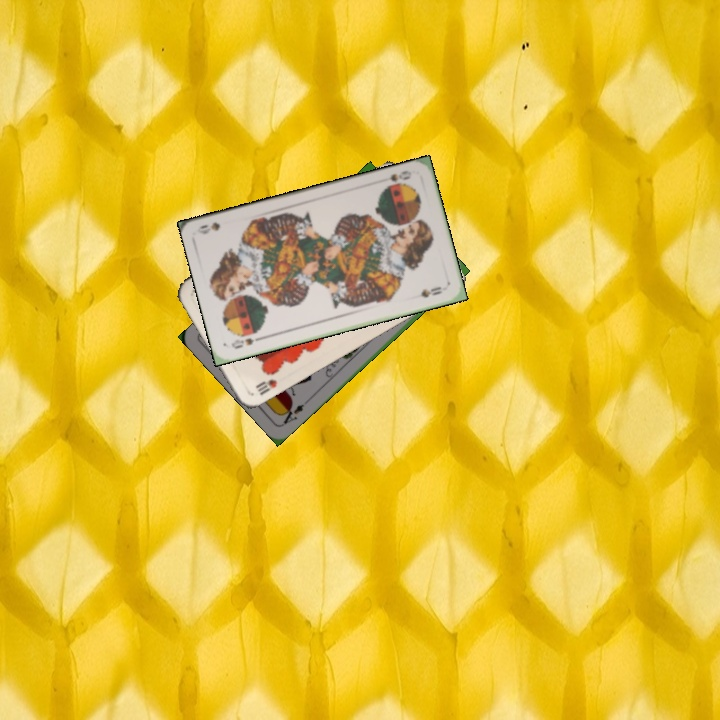EA: (276, 396, 311, 427)
H10: (251, 375, 280, 398)
SO: (377, 166, 414, 191), (227, 332, 266, 351)
